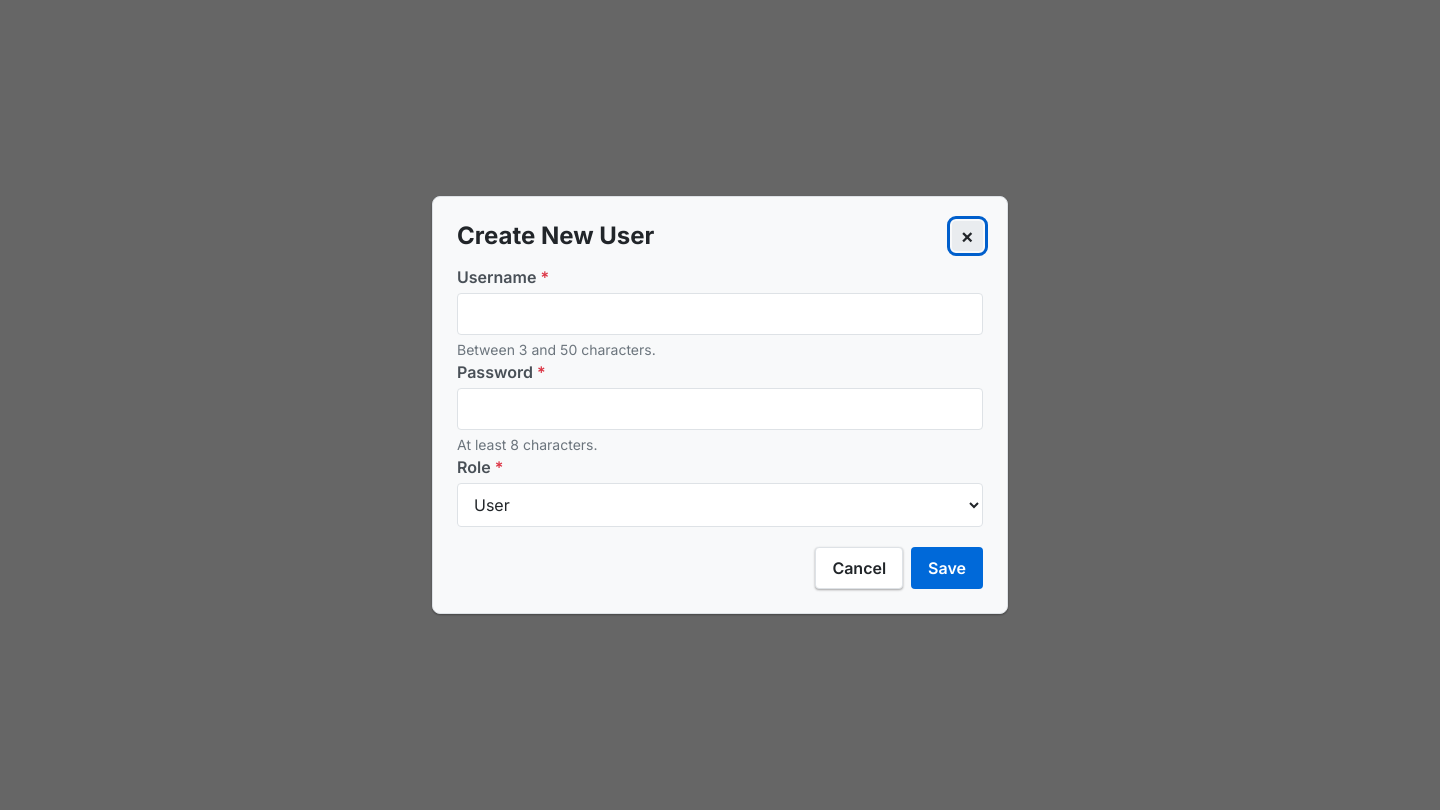
AddUserModal › blocks a short password client-side with an inline message
Type "newuser" into the field labelled "Username" at (720, 314), box [457,293,983,335]
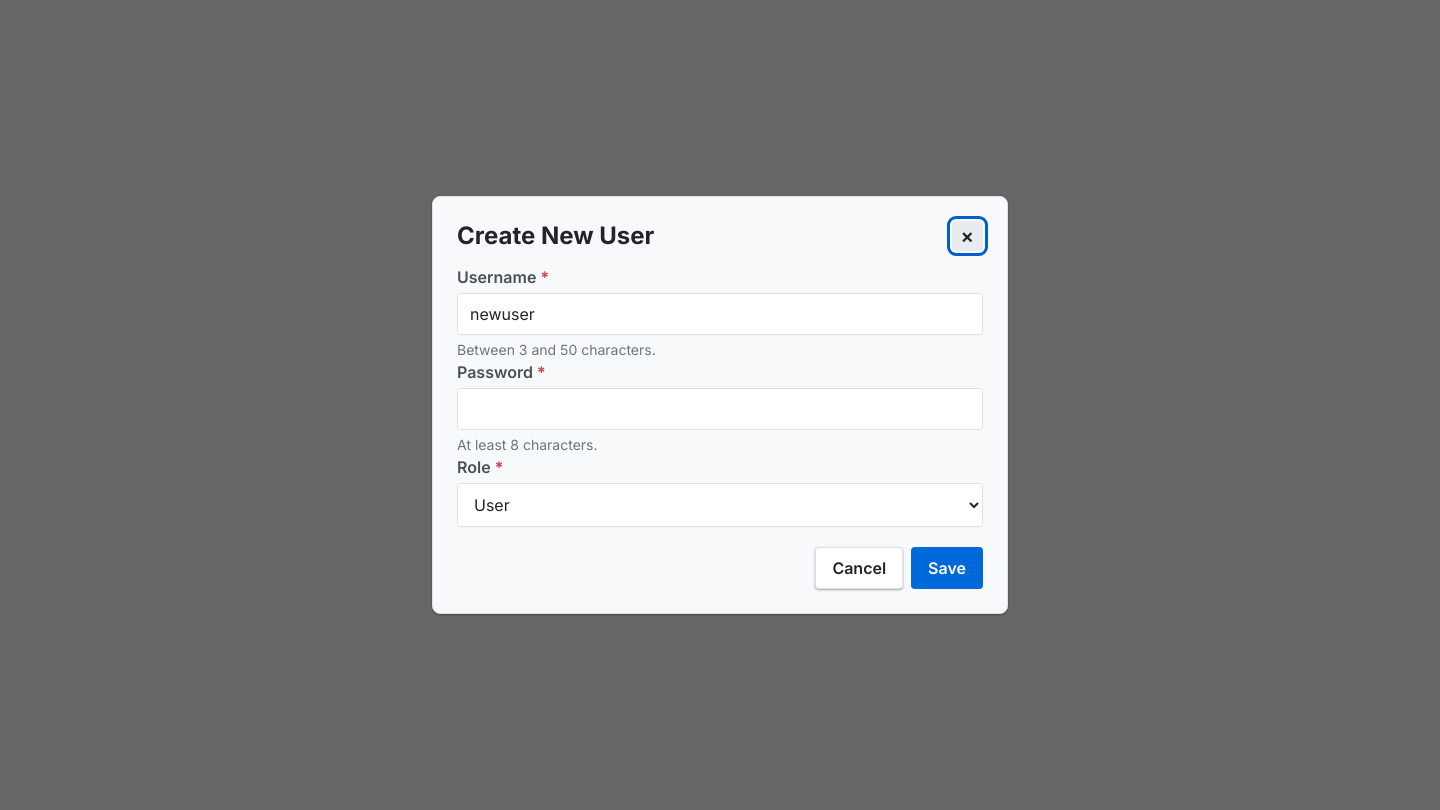
Type "short" into the password field labelled "Password" at (720, 409), box [457,388,983,430]
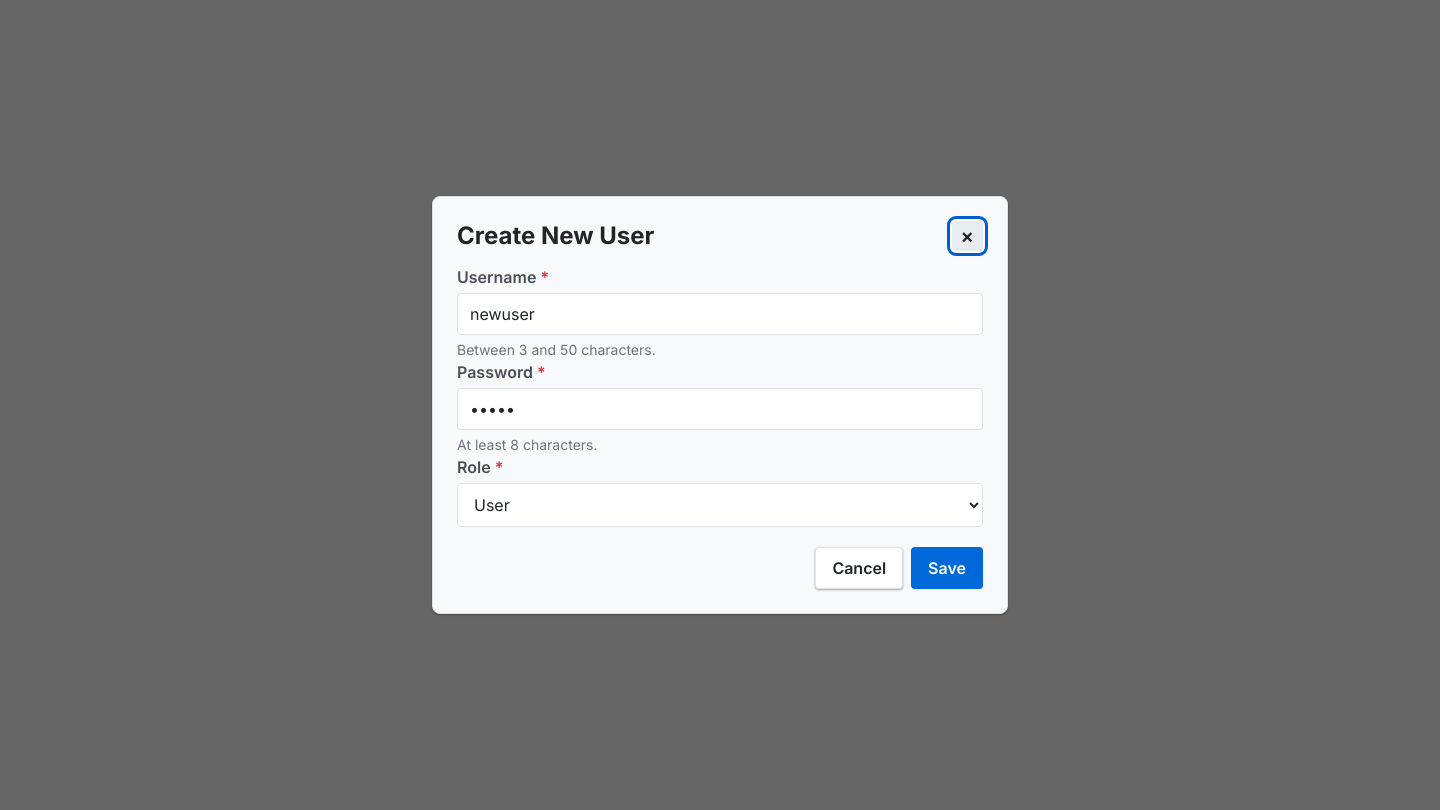
Click the button "Save" at (947, 568), box [911,547,983,589]
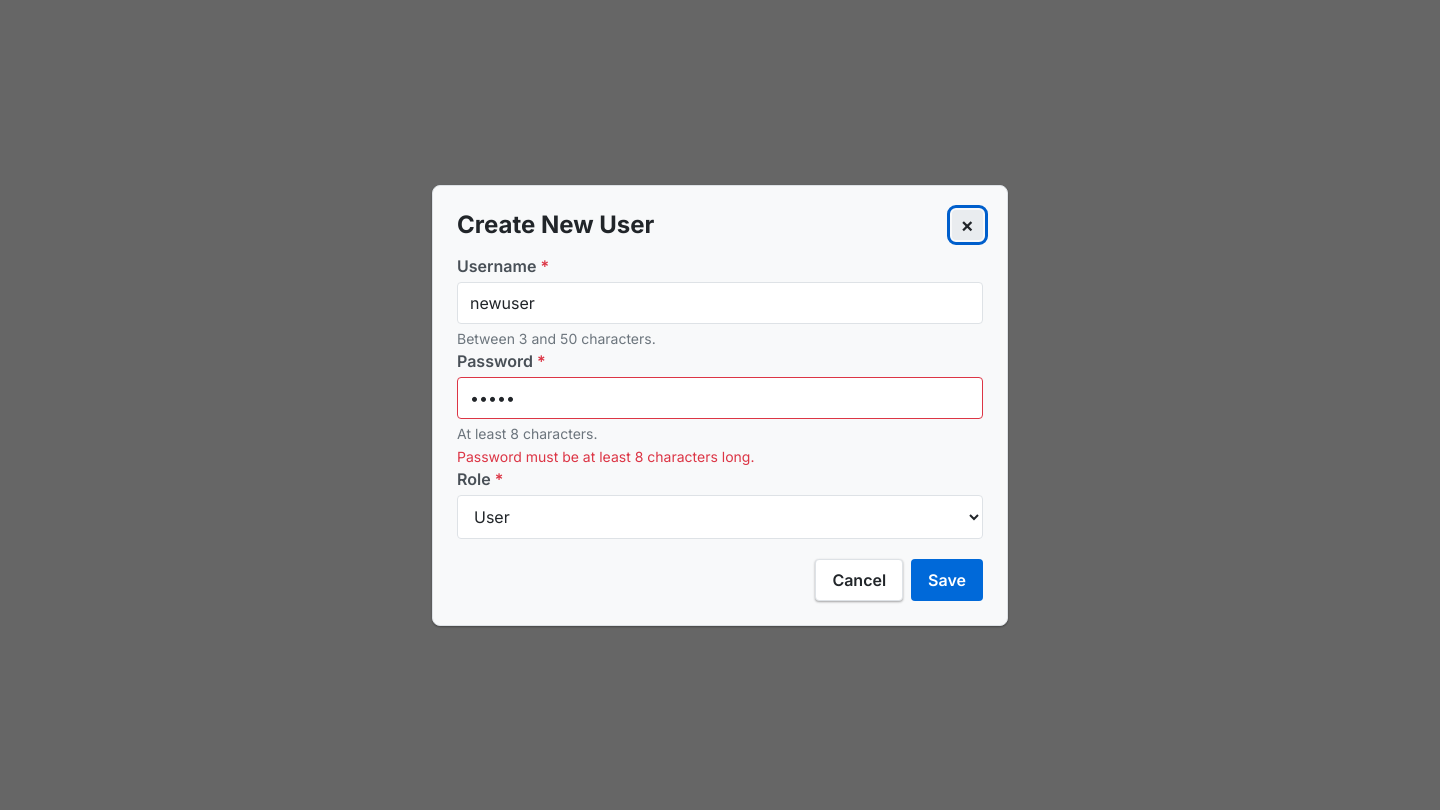
Check: the text "Password must be at least 8 characters long." is shown, box [457,448,754,464]
